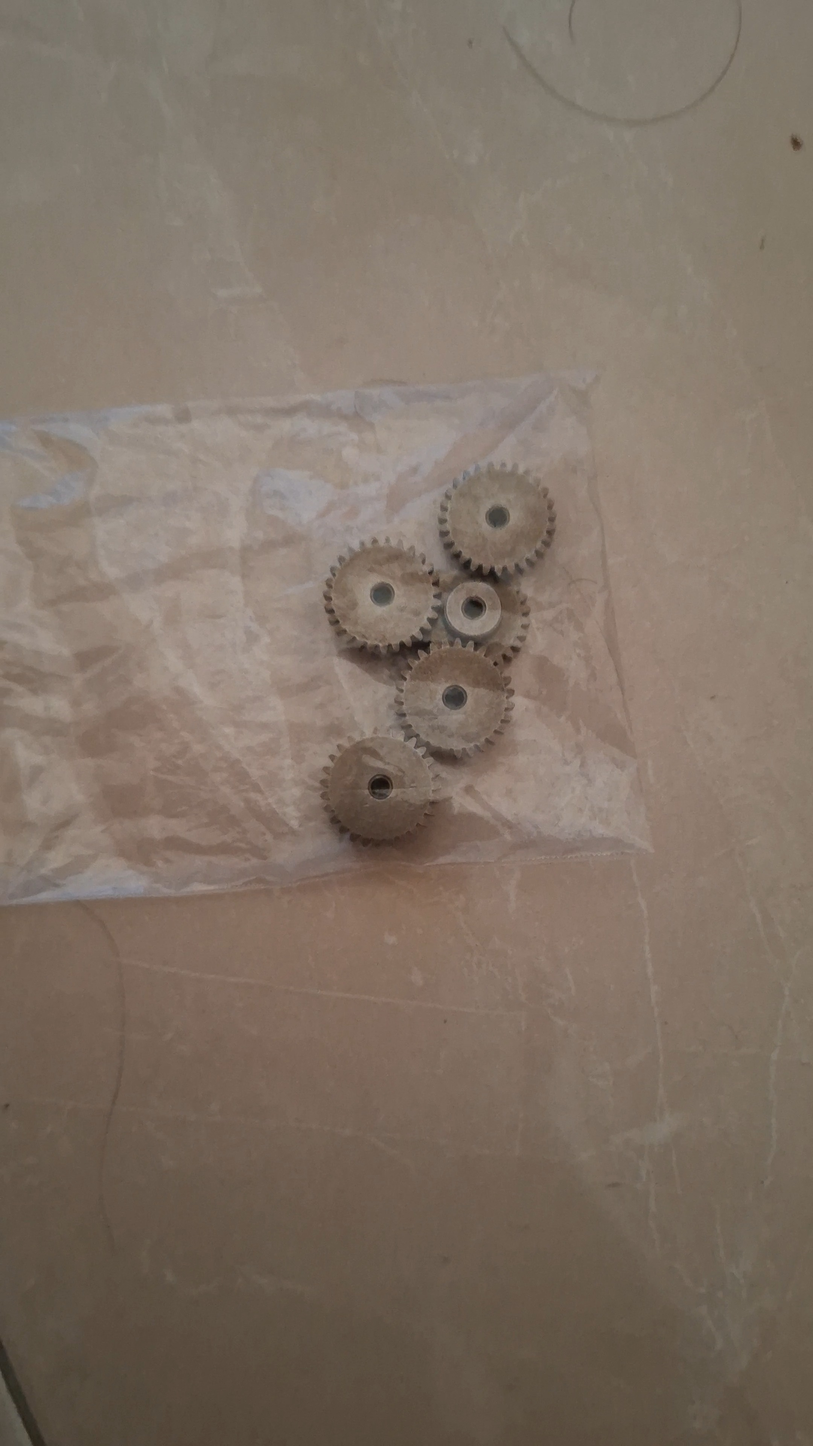spur gear: (397, 640, 513, 757), (324, 538, 441, 654), (439, 464, 555, 578), (321, 735, 435, 842), (431, 573, 530, 660)
